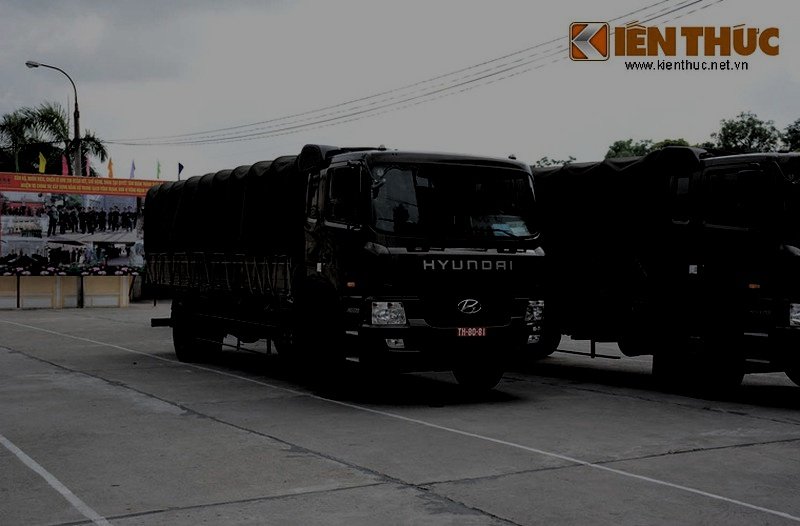plate: (455, 321, 491, 342)
